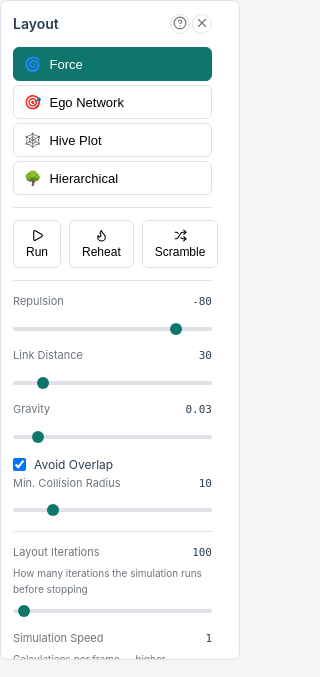
Test: LayoutPanel — ego mode block › shows ego controls and the no-focus hint only in ego mode
The image size is (320, 677).
Click the button with test id "layout-option-ego": (112, 102) left=13, top=85, right=212, bottom=119
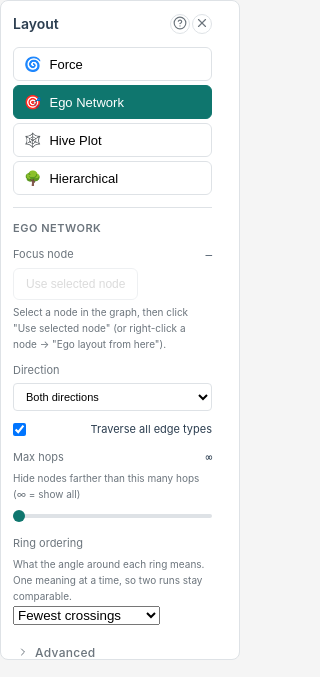
expect the dropdown with test id "ego-direction-select" is shown: met, box left=13, top=383, right=212, bottom=411
expect the text with test id "ego-no-focus-hint" is shown: met, box left=13, top=304, right=212, bottom=352
